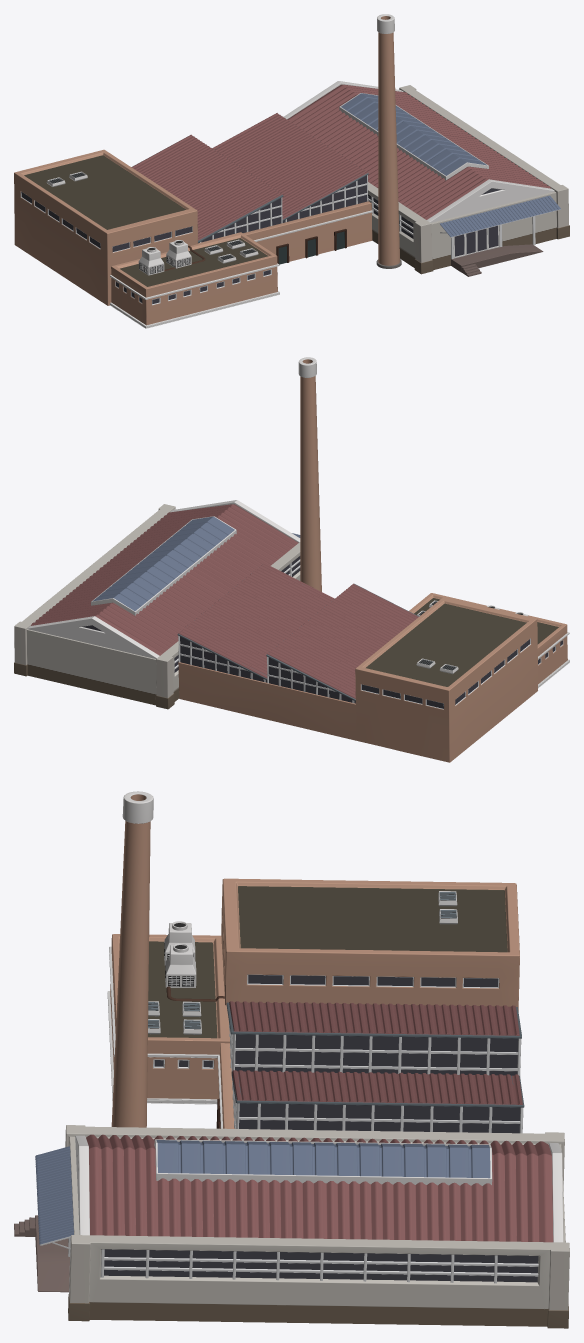
File: Factory Complex.glb
3 renders of one model, top to bottom at view 1: azimuth 30°, elevation 25°; view 2: azimuth 150°, elevation 25°; view 3: azimuth 270°, elevation 25°, orthographic. The views are drawn at different scales.
Parts seen in each view (by area): view 1: node_id5; view 2: node_id5; view 3: node_id5.
Part boxes in pixels (x1,y1,x2,y2): node_id5: (14,14,569,328); node_id5: (14,357,569,762); node_id5: (14,791,569,1328).
Bounding box in the file's own units: 0.5178 × 0.2959 × 0.3664.
1 material, 1 textured.
